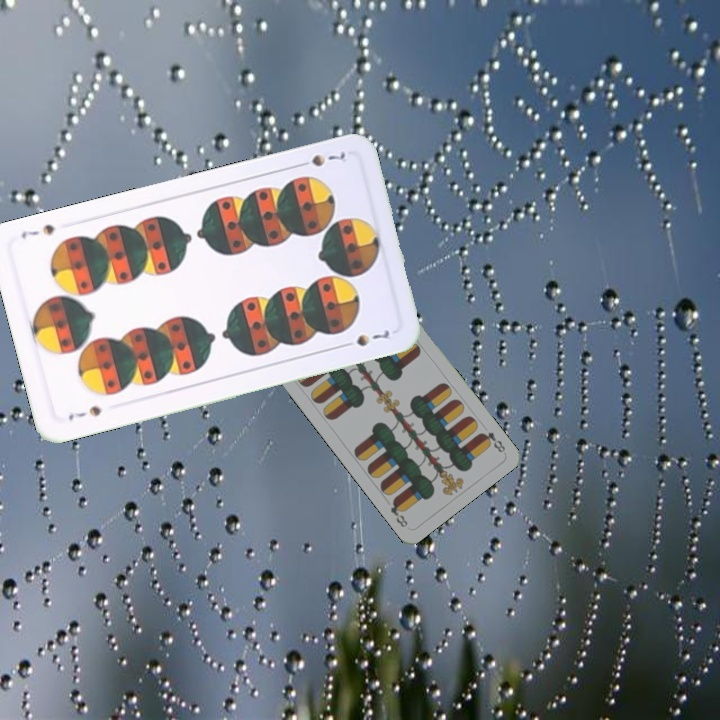E8: (476, 428, 508, 455)
S7: (292, 147, 351, 170), (64, 402, 104, 423)
